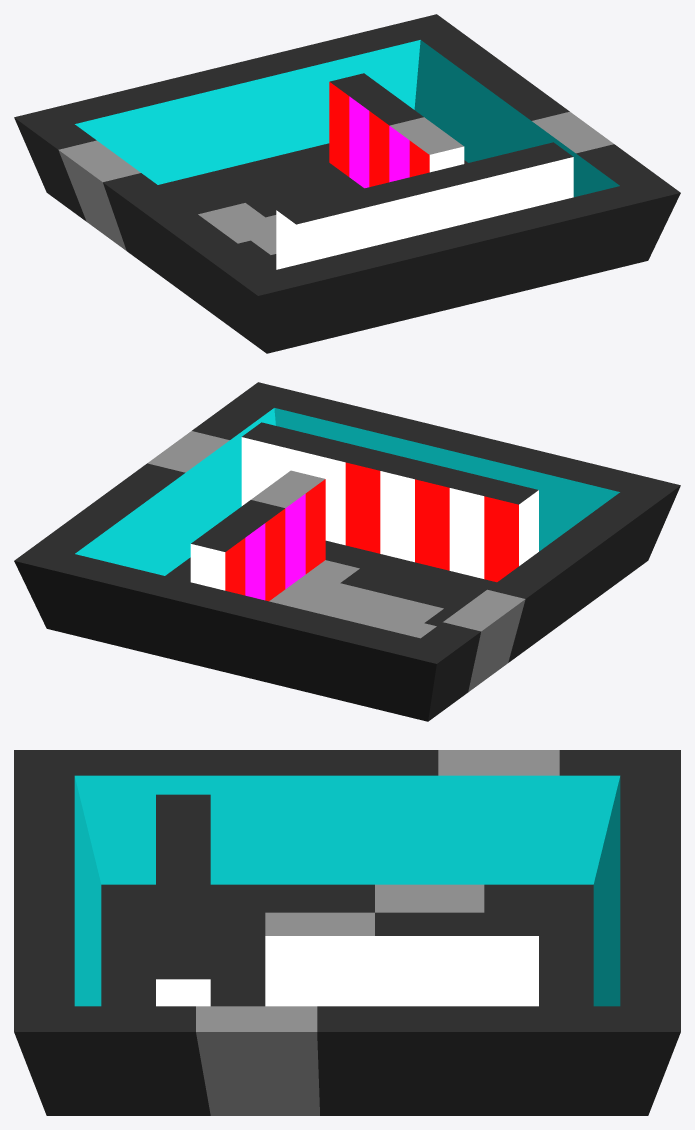
Rendered from collision_world.glb.
3 renders of one model, top to bottom at view 1: azimuth 30°, elevation 25°; view 2: azimuth 150°, elevation 25°; view 3: azimuth 270°, elevation 25°, orthographic. The views are drawn at different scales.
Parts seen in each view (by area): view 1: Plane; view 2: Plane; view 3: Plane.
Boxes of the visible parts, x1,y1,x2,y2 form: Plane: (14,14,680,353); Plane: (14,382,680,721); Plane: (14,750,680,1115).
Size of the model in its own units: 72.58 by 13.61 by 72.58.
Materials: 1 (1 with a texture image).
